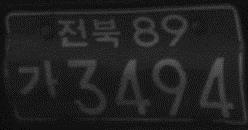3: (65, 56, 106, 116)
4: (199, 55, 236, 119), (114, 57, 150, 116)
8: (131, 15, 159, 48)
9: (153, 57, 187, 119), (161, 12, 187, 48)
가: (17, 57, 59, 103)
전북_O: (56, 16, 121, 48)
